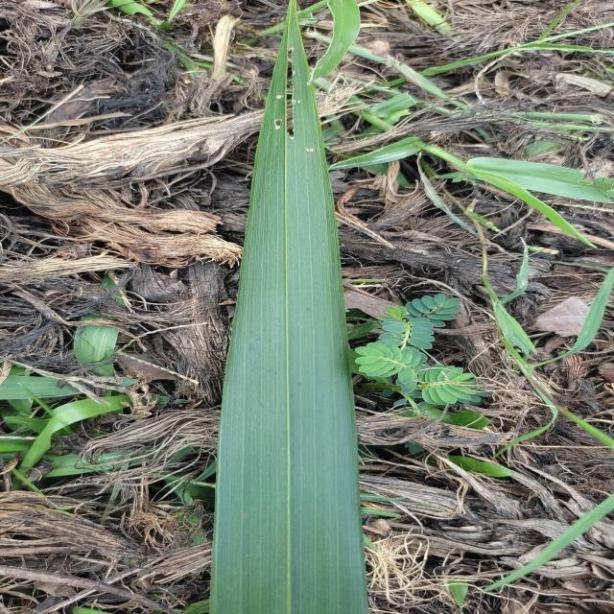Boron: (213, 0, 366, 614)
